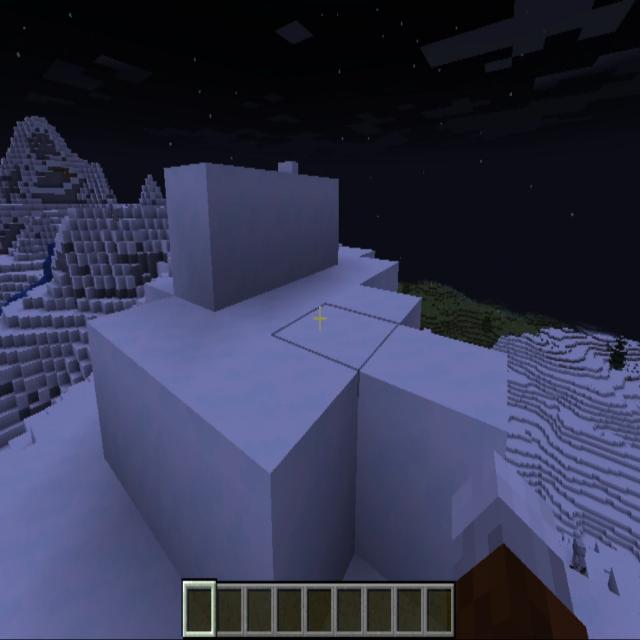Goat: (110, 205, 123, 222)
